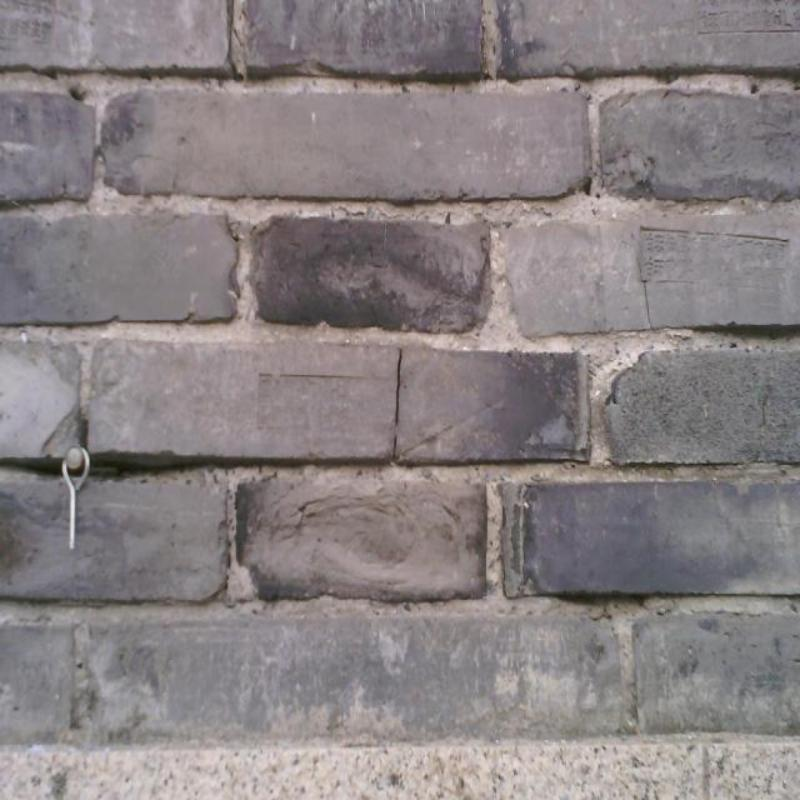pothole: (89, 462, 184, 478), (556, 594, 648, 605), (696, 328, 799, 335), (641, 280, 654, 330), (14, 462, 60, 474), (396, 348, 402, 427), (230, 22, 246, 48), (80, 419, 90, 447), (231, 65, 244, 80), (393, 434, 397, 458)
